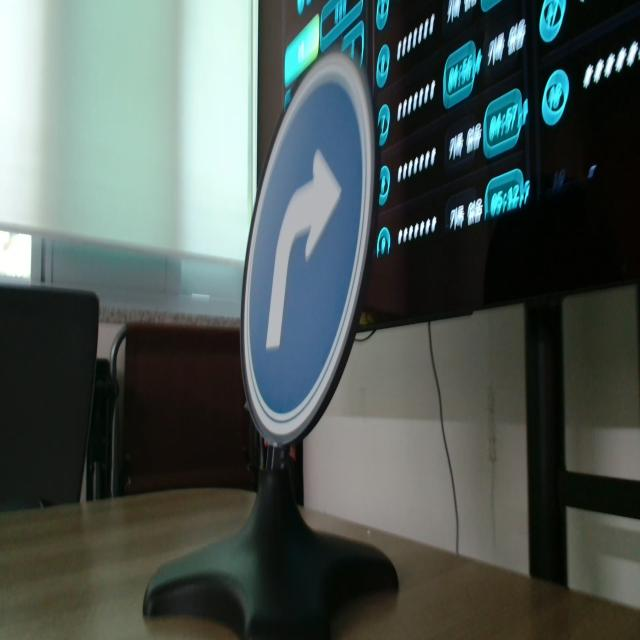right_dierection: (247, 60, 371, 450)
